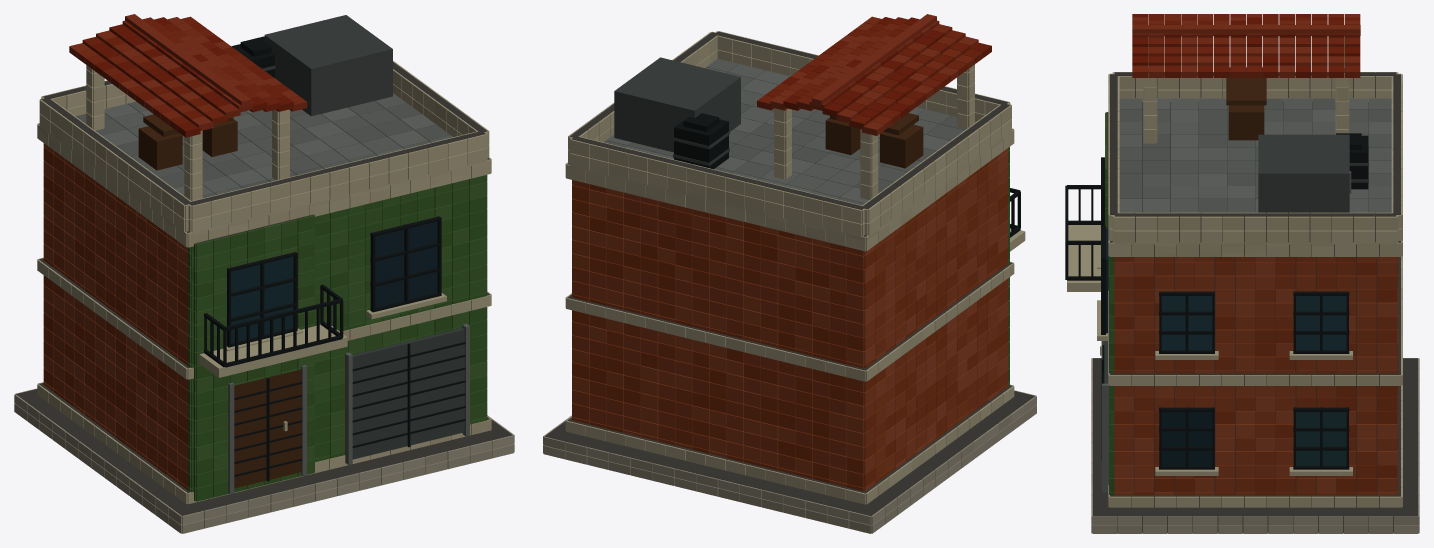
The model's file is SM_Mapa_044.fbx.
The picture shows the model from 3 angles, left to right: view 1: azimuth 30°, elevation 25°; view 2: azimuth 150°, elevation 25°; view 3: azimuth 270°, elevation 25°; orthographic projection. The views are drawn at different scales.
Parts seen in each view (by area): view 1: SM_Mapa_044; view 2: SM_Mapa_044; view 3: SM_Mapa_044.
Boxes of the visible parts, <box> form: SM_Mapa_044: <box>14,14,514,533</box>; SM_Mapa_044: <box>543,14,1036,533</box>; SM_Mapa_044: <box>1065,14,1419,533</box>.
Size of the model in its own units: 8 by 7.53 by 9.11.
